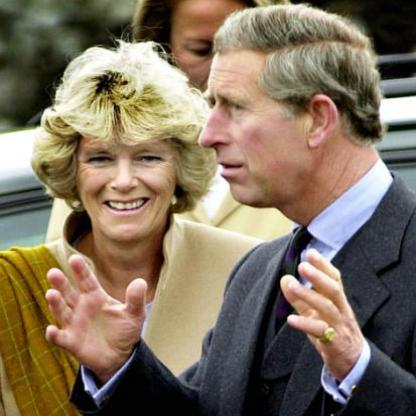face: (188, 16, 318, 208), (76, 87, 181, 244), (173, 1, 264, 117)
